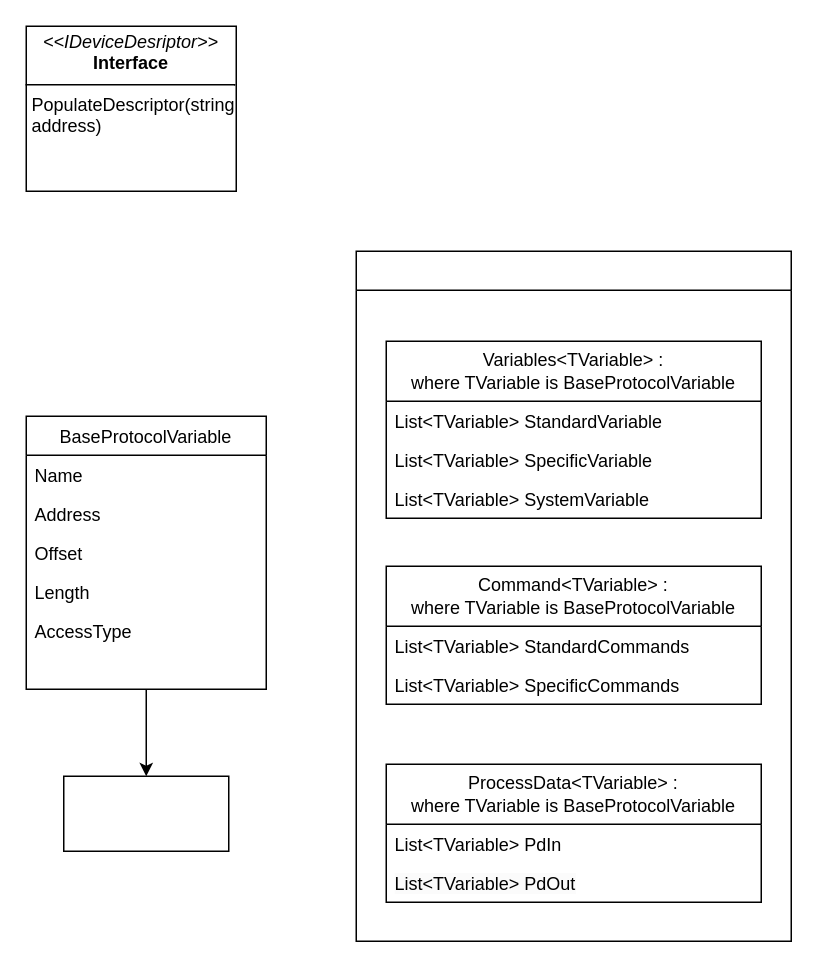
This 818x968 diagram has some shape labels left out. The shapes that lost their labels are listed below. From the top down, each one's box as (x1, y1, x2, y2) in pixels, then its label:
(355, 250, 791, 941): Descriptor
(62, 775, 229, 851): «interface» IParameter
